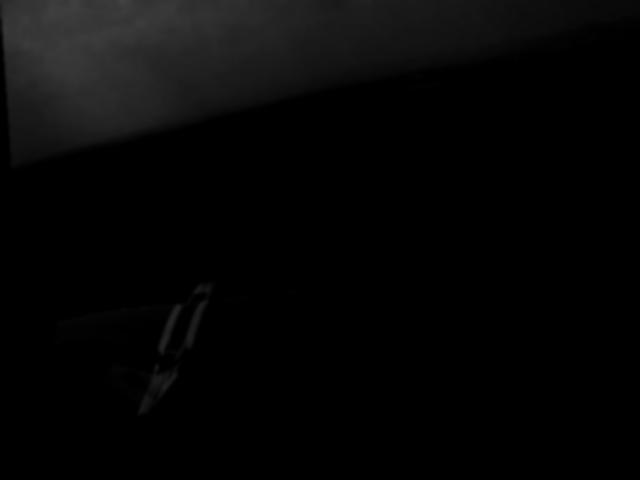hedef: (12, 204, 376, 463)
